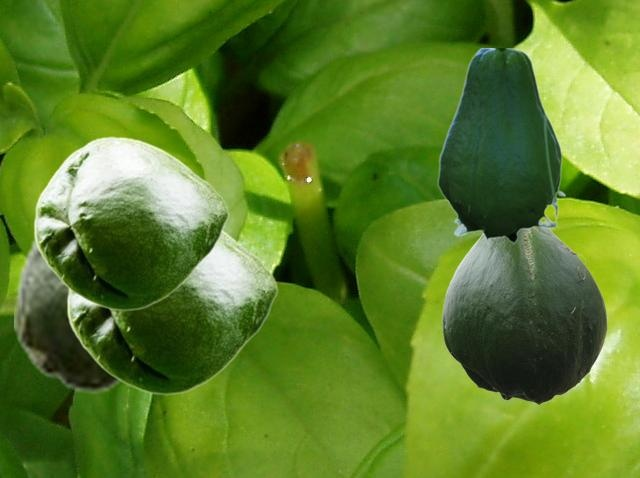sayote: (66, 228, 277, 394), (33, 136, 228, 310), (442, 221, 606, 404), (14, 162, 125, 393), (437, 48, 565, 246)
